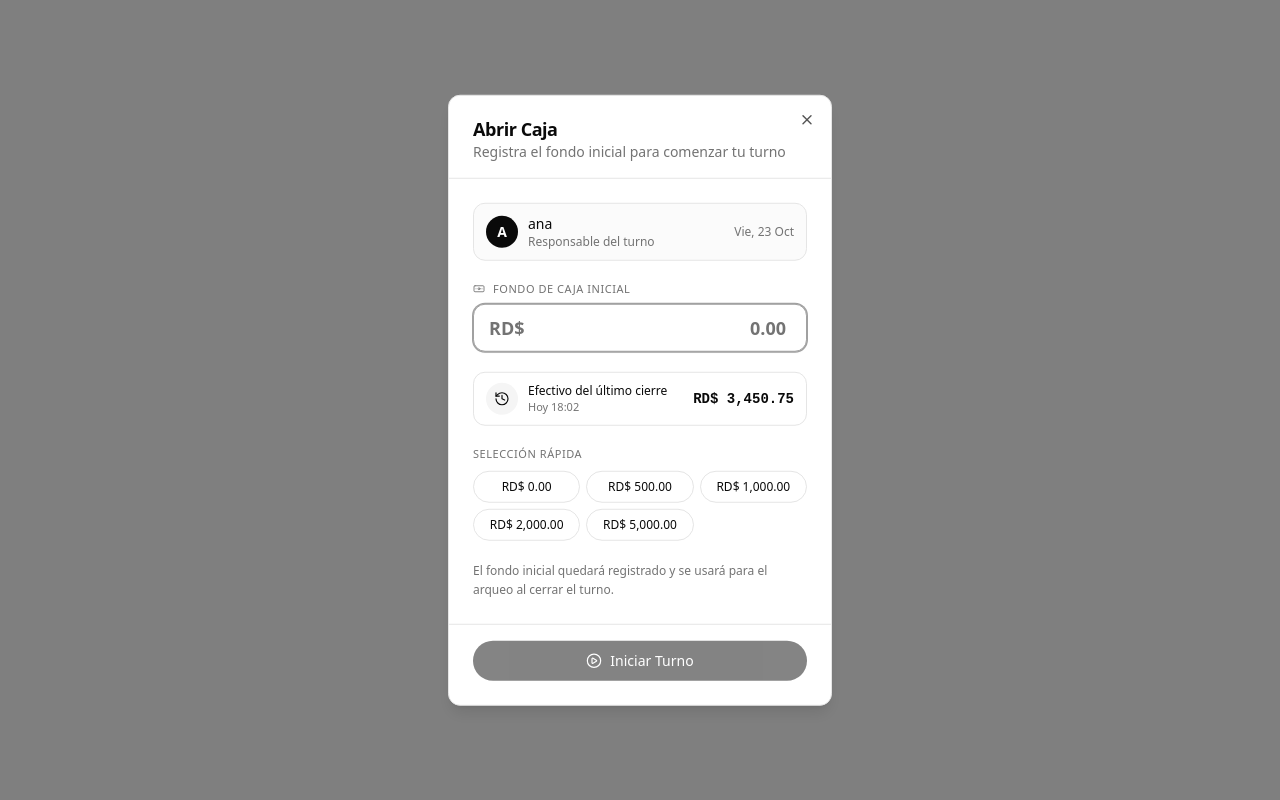
OpenShiftDialog › suggests the cash from the last closed shift and fills the input on click
Expected: the text "RD$ 3,450.75" is shown, [693,388,794,408]
What coordinates should you click on to do the following:
click the button "Efectivo del último cierre"
I would click on:
 (640, 399)
Its box is [473,371,807,426].
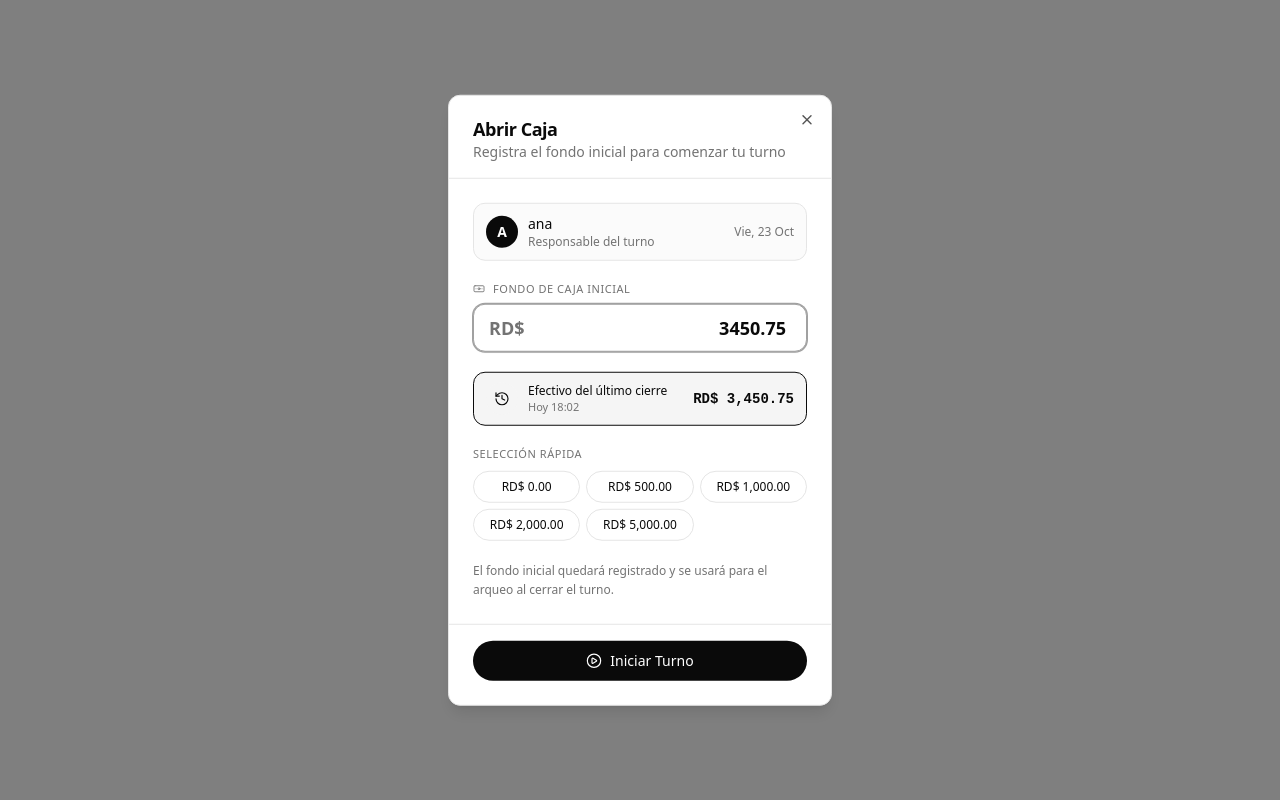
Expected: the field with placeholder "0.00" holds "3450.75", [473,303,807,351]
Expected: the button "Iniciar Turno" is enabled, [473,640,807,680]
